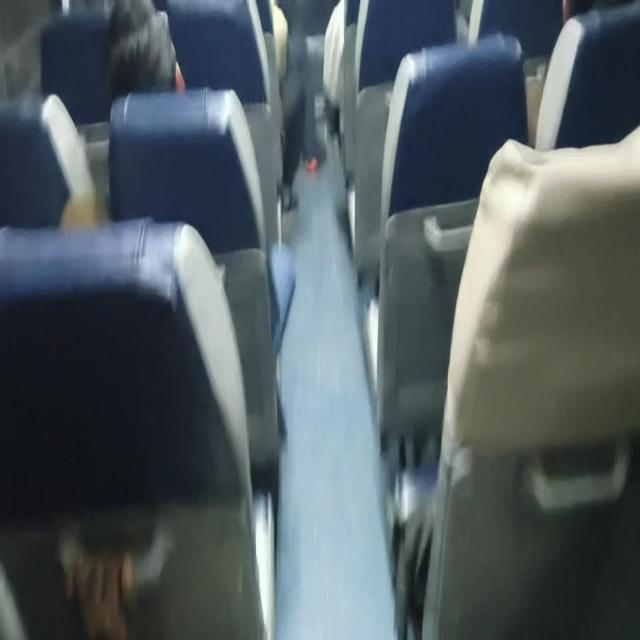person: (97, 0, 195, 100)
